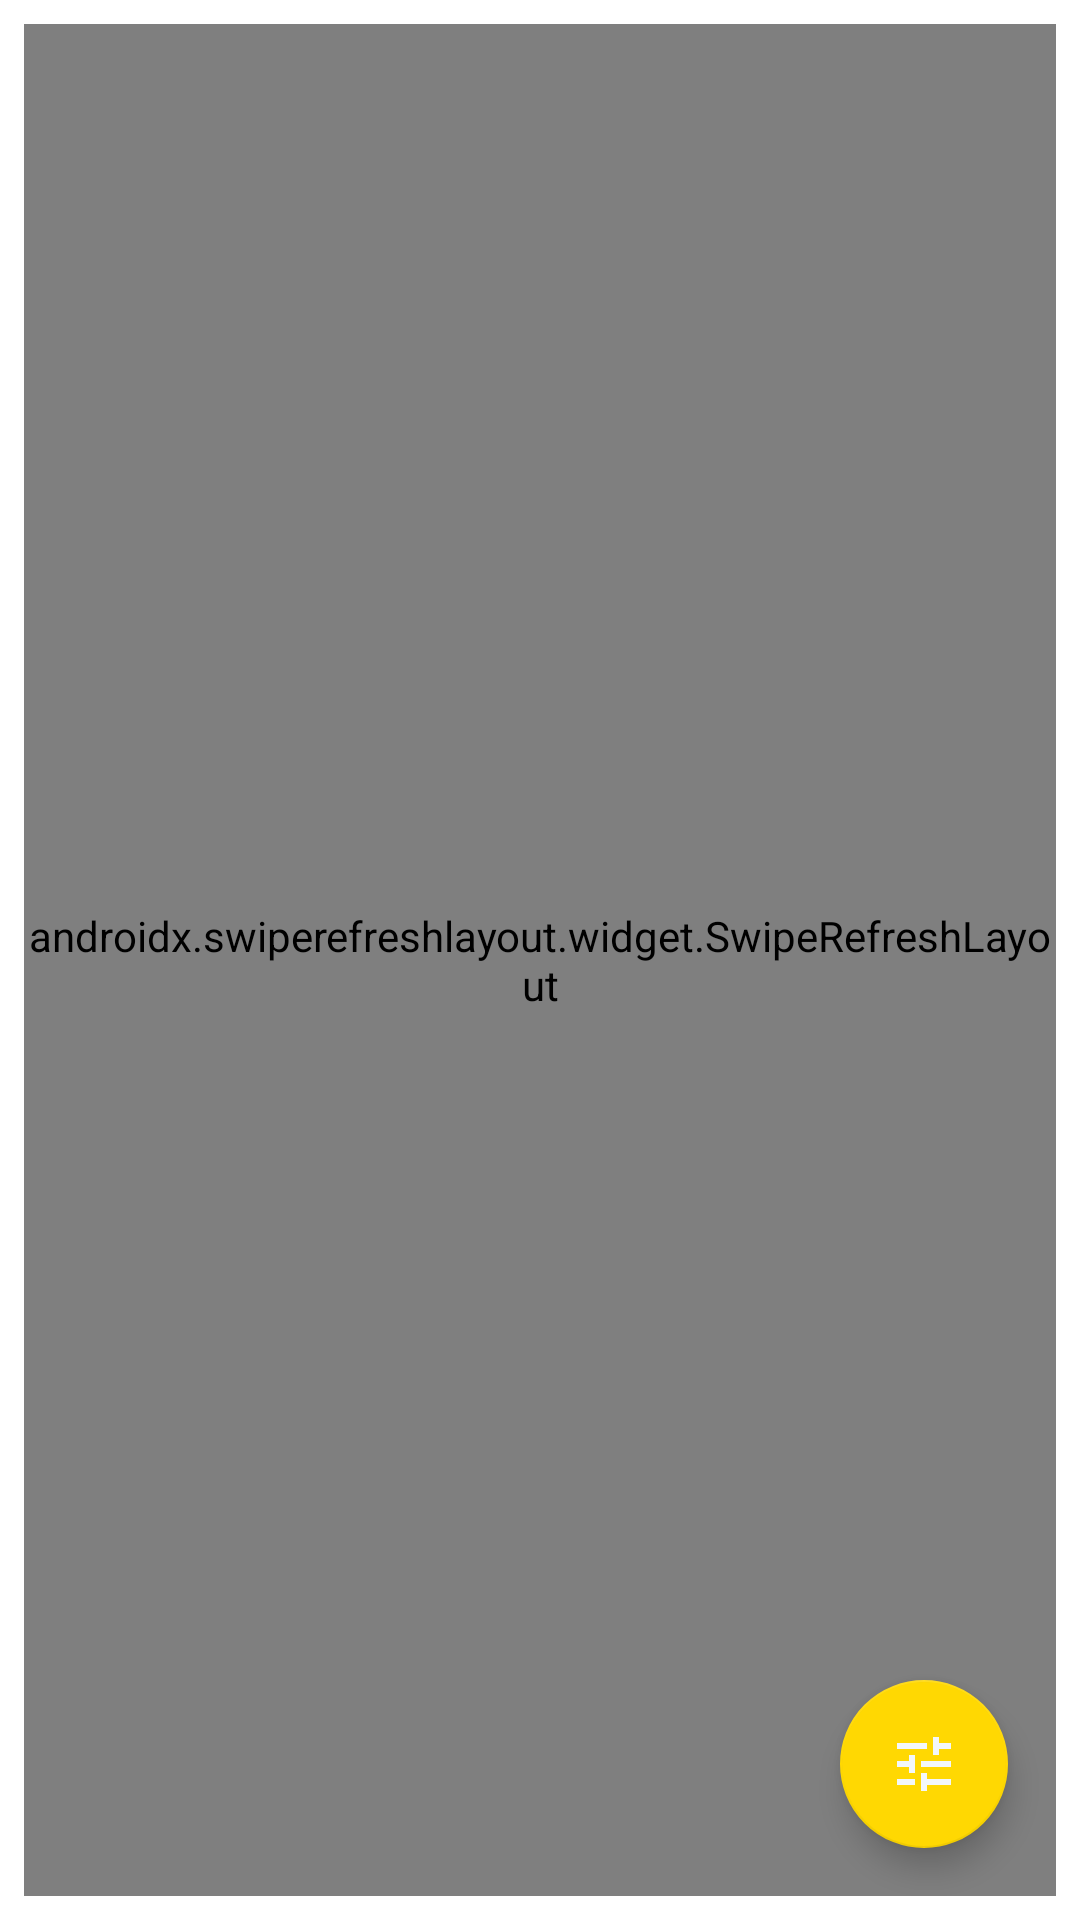

Named icons in this screenshot (1080px x 1920px) and their bounding boxes, {"x1": x1, "y1": y1, "x2": x2, "y2": y2}:
filter: {"x1": 840, "y1": 1680, "x2": 1008, "y2": 1848}
